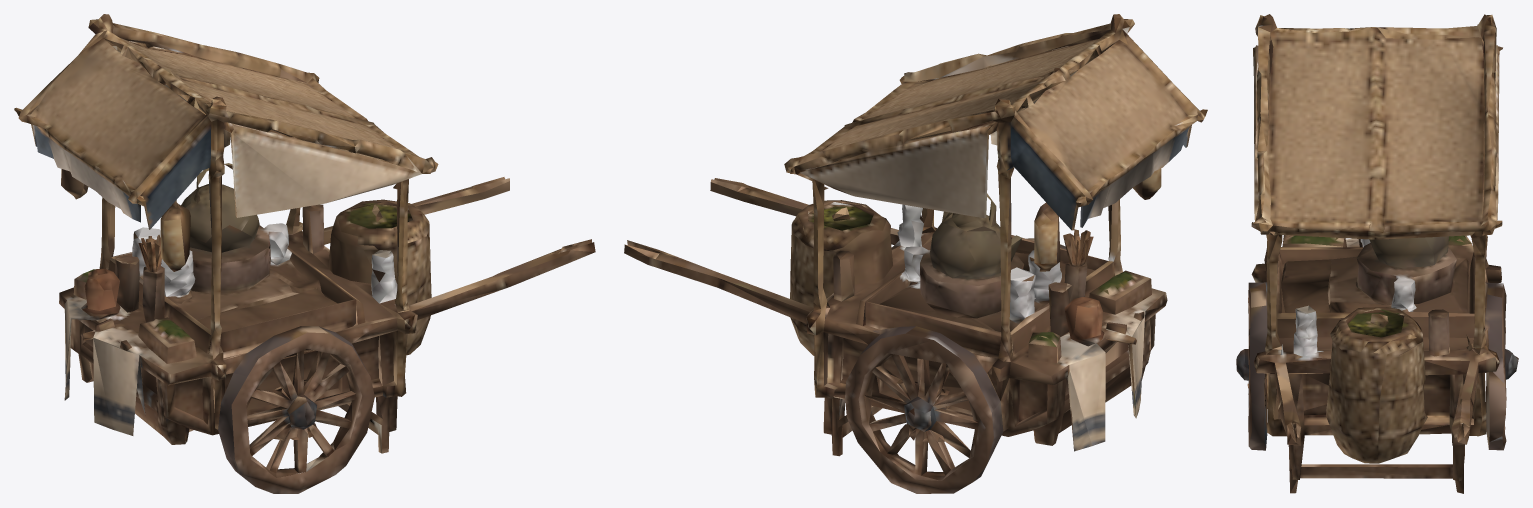
File: 04_Tea_Water_Cart_LOD2.fbx
The picture shows the model from 3 angles, left to right: view 1: azimuth 30°, elevation 25°; view 2: azimuth 150°, elevation 25°; view 3: azimuth 270°, elevation 25°; orthographic projection. The views are drawn at different scales.
Visible parts, largest first — view 1: 04_Tea_Water_Cart_L2; view 2: 04_Tea_Water_Cart_L2; view 3: 04_Tea_Water_Cart_L2.
Part boxes in pixels (left/top/right/bottom): 04_Tea_Water_Cart_L2: left=14, top=14, right=595, bottom=493; 04_Tea_Water_Cart_L2: left=624, top=14, right=1207, bottom=493; 04_Tea_Water_Cart_L2: left=1236, top=14, right=1518, bottom=493.
Size of the model in its own units: 2.7 by 2.2 by 1.44.
